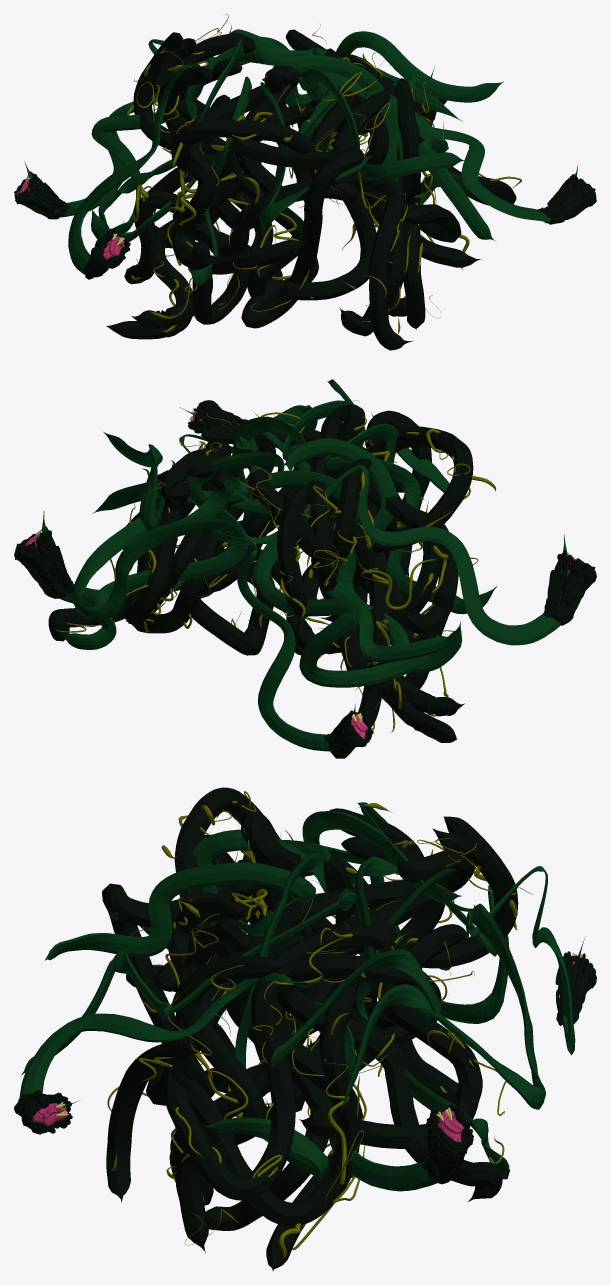
File: Medusa.fbx
3 views of the same model, one above another, from view 1: azimuth 30°, elevation 25°; view 2: azimuth 150°, elevation 25°; view 3: azimuth 270°, elevation 25° (orthographic). The views are drawn at different scales.
Parts seen in each view (by area): view 1: Paint, NewLayer0; view 2: Paint, NewLayer0; view 3: Paint, NewLayer0.
Boxes of the visible parts, x1,y1,x2,y2 form: Paint: [68, 14, 596, 350]; NewLayer0: [14, 39, 215, 219]; Paint: [14, 379, 596, 758]; NewLayer0: [203, 512, 373, 754]; Paint: [14, 787, 545, 1270]; NewLayer0: [468, 866, 596, 1055].
Size of the model in its own units: 14.65 by 8.65 by 12.57.
